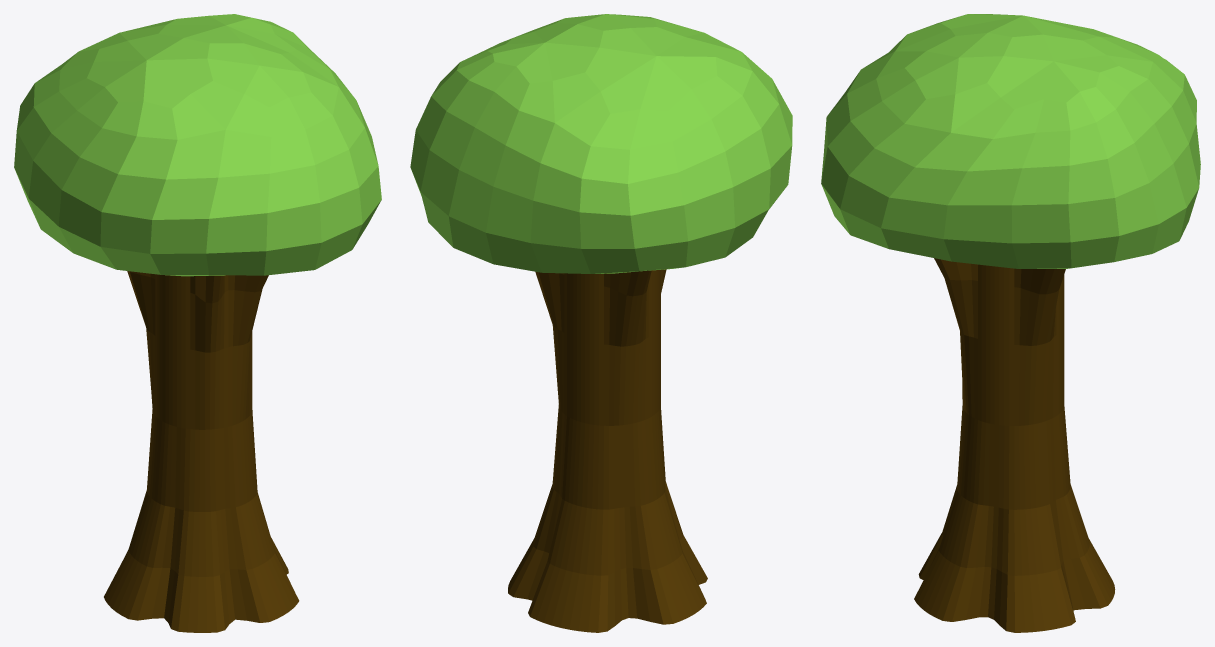
File: Tree.fbx
The picture shows the model from 3 angles, left to right: view 1: azimuth 30°, elevation 25°; view 2: azimuth 150°, elevation 25°; view 3: azimuth 270°, elevation 25°; orthographic projection. The views are drawn at different scales.
Parts seen in each view (by area): view 1: Tree; view 2: Tree; view 3: Tree.
Part boxes in pixels (bbox=[...]): Tree: bbox=[14, 14, 381, 632]; Tree: bbox=[410, 14, 792, 632]; Tree: bbox=[821, 14, 1200, 632].
Bounding box in the file's own units: 3.46 × 6 × 3.71.
